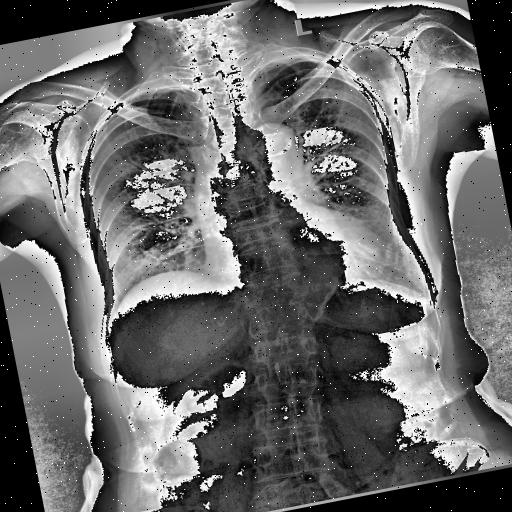0- Aortic enlargement: (244, 118, 312, 190), (235, 118, 299, 168), (239, 118, 299, 171)
11- Pleural thickening: (260, 46, 328, 72), (130, 80, 190, 100)
3- Cardiomegaly: (200, 208, 393, 314), (199, 215, 399, 313), (204, 212, 392, 308)
